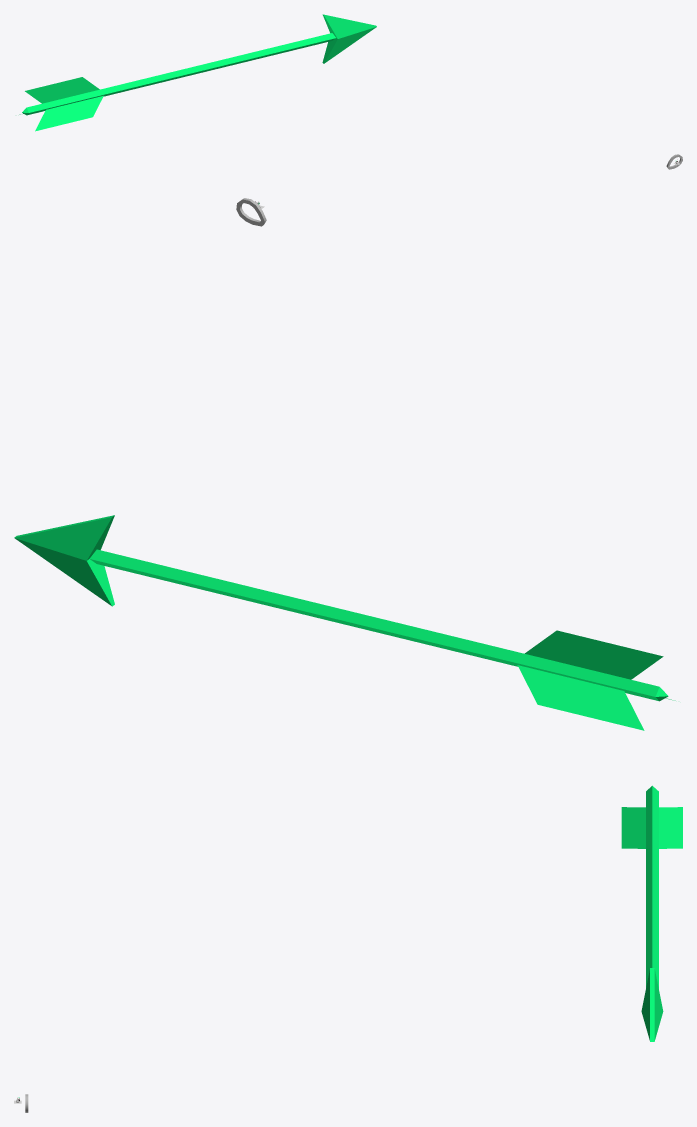
Rendered from guy.dae.
3 views of the same model, one above another, from view 1: azimuth 30°, elevation 25°; view 2: azimuth 150°, elevation 25°; view 3: azimuth 270°, elevation 25° (orthographic). The views are drawn at different scales.
Parts seen in each view (by area): view 1: Arrow; view 2: Arrow; view 3: Arrow.
Part boxes in pixels (x1,y1,x2,y2): Arrow: [19, 14, 376, 131]; Arrow: [14, 515, 675, 730]; Arrow: [621, 785, 682, 1041].
Bounding box in the file's own units: 50.11 × 44.23 × 5.2.
